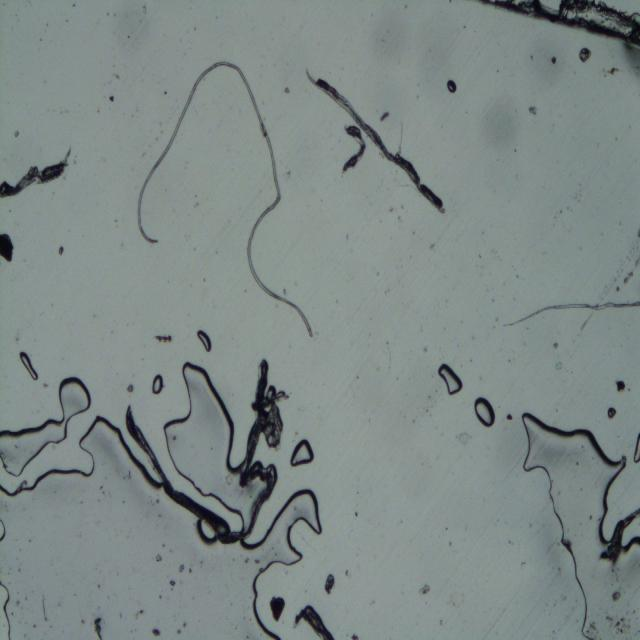Air bubble: (523, 414, 640, 640), (225, 489, 326, 640), (157, 361, 251, 521), (0, 374, 92, 475), (0, 580, 18, 640), (289, 436, 315, 471), (438, 363, 464, 397), (18, 346, 40, 381), (474, 395, 496, 427), (199, 521, 217, 548), (197, 329, 213, 354), (150, 373, 164, 395), (632, 434, 640, 466), (444, 78, 458, 95), (0, 520, 7, 544)
Background material: (268, 594, 288, 624), (0, 233, 18, 266), (90, 614, 106, 640), (323, 571, 335, 598), (614, 376, 628, 396), (152, 331, 172, 344), (603, 405, 619, 421), (40, 594, 49, 622), (579, 46, 591, 65), (458, 428, 470, 447), (623, 269, 637, 285), (604, 63, 618, 75), (281, 167, 293, 180), (284, 82, 294, 97), (110, 68, 122, 80), (419, 583, 430, 596), (604, 612, 614, 626), (136, 607, 148, 618), (612, 591, 622, 604), (616, 618, 624, 632), (379, 112, 389, 123), (152, 628, 162, 638), (167, 578, 177, 588), (125, 382, 134, 393), (349, 631, 359, 640), (529, 105, 537, 116), (554, 362, 563, 371), (590, 622, 598, 632), (141, 2, 147, 15), (125, 468, 132, 479), (506, 410, 513, 421), (155, 554, 163, 563), (550, 55, 558, 64), (550, 341, 558, 350), (178, 564, 185, 574), (176, 626, 182, 636), (104, 10, 112, 17), (14, 599, 20, 608), (244, 556, 250, 565), (109, 94, 115, 103), (58, 247, 64, 256), (438, 616, 443, 626), (15, 131, 21, 139), (388, 206, 396, 212), (78, 619, 85, 625), (636, 228, 640, 238), (345, 568, 349, 578), (187, 568, 193, 574), (162, 90, 168, 96), (118, 610, 122, 619), (398, 218, 404, 224), (509, 541, 515, 547), (354, 511, 358, 520), (519, 562, 526, 567), (530, 54, 534, 62), (256, 559, 260, 566), (182, 622, 187, 627), (448, 541, 452, 547), (32, 624, 36, 629), (159, 594, 163, 599), (632, 610, 636, 614), (174, 435, 177, 440), (98, 584, 100, 588)
Cellulose filter fibre: (125, 359, 295, 545), (303, 68, 447, 214), (506, 296, 640, 328), (0, 145, 70, 206), (604, 507, 640, 562), (295, 600, 335, 640), (341, 126, 365, 174)
Edge of slide: (477, 0, 640, 52)
Microfibre: (134, 57, 316, 338)
